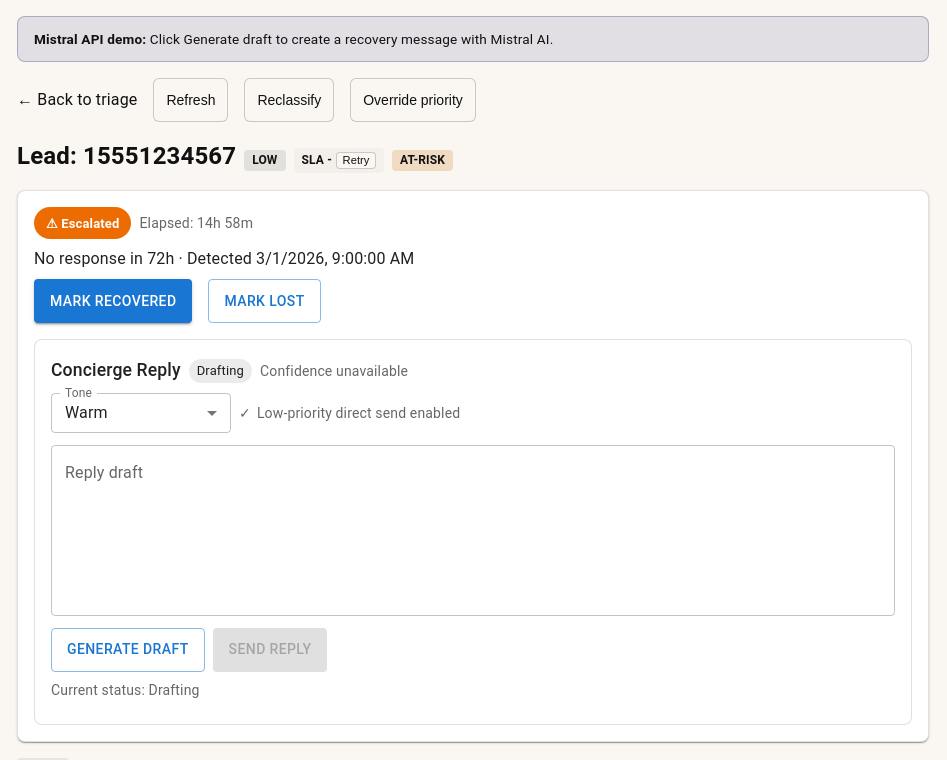
lead-detail recovery flow integration › allows direct send for low-priority branch through lead page wiring
Click the button "Generate draft": click(128, 650) [51,628,205,672]
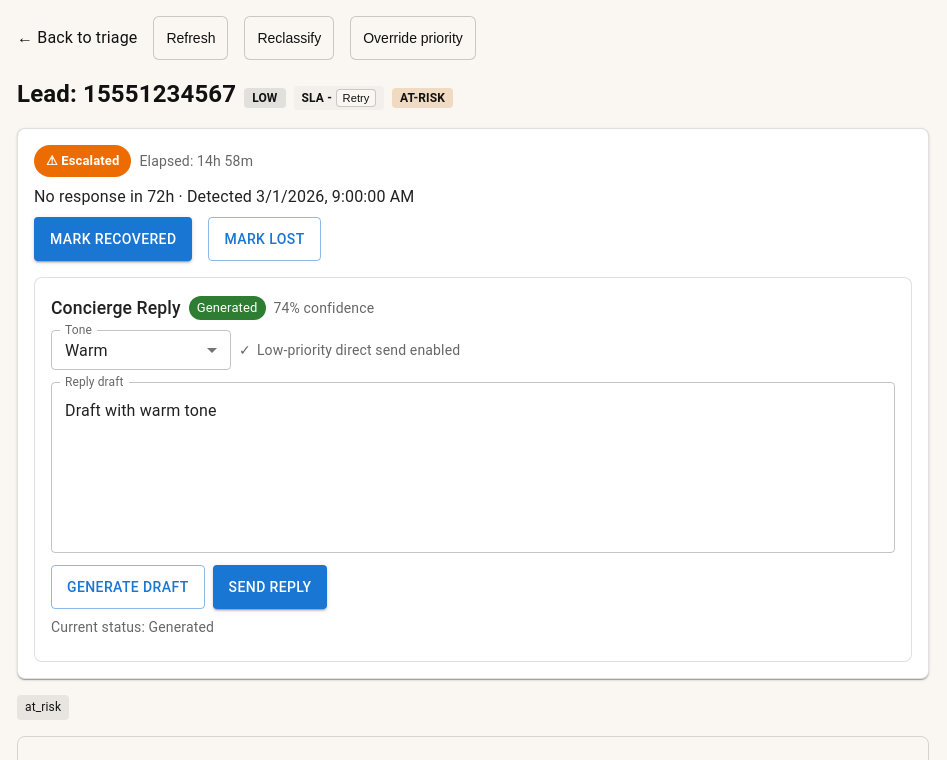
expect the button "Send reply" is enabled: met
Click the button "Send reply": click(270, 587) [213,565,327,609]
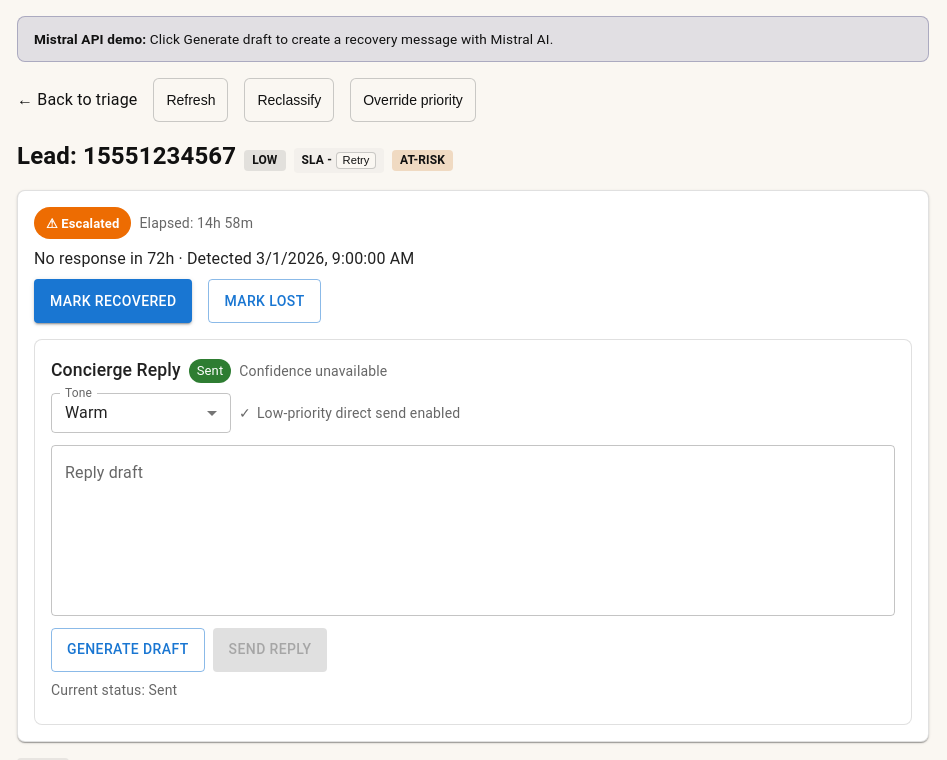
expect the text "Current status: Sent" is shown: met, box [51,682,177,698]
